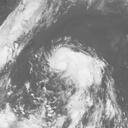cyclone: (47, 45, 107, 93)
